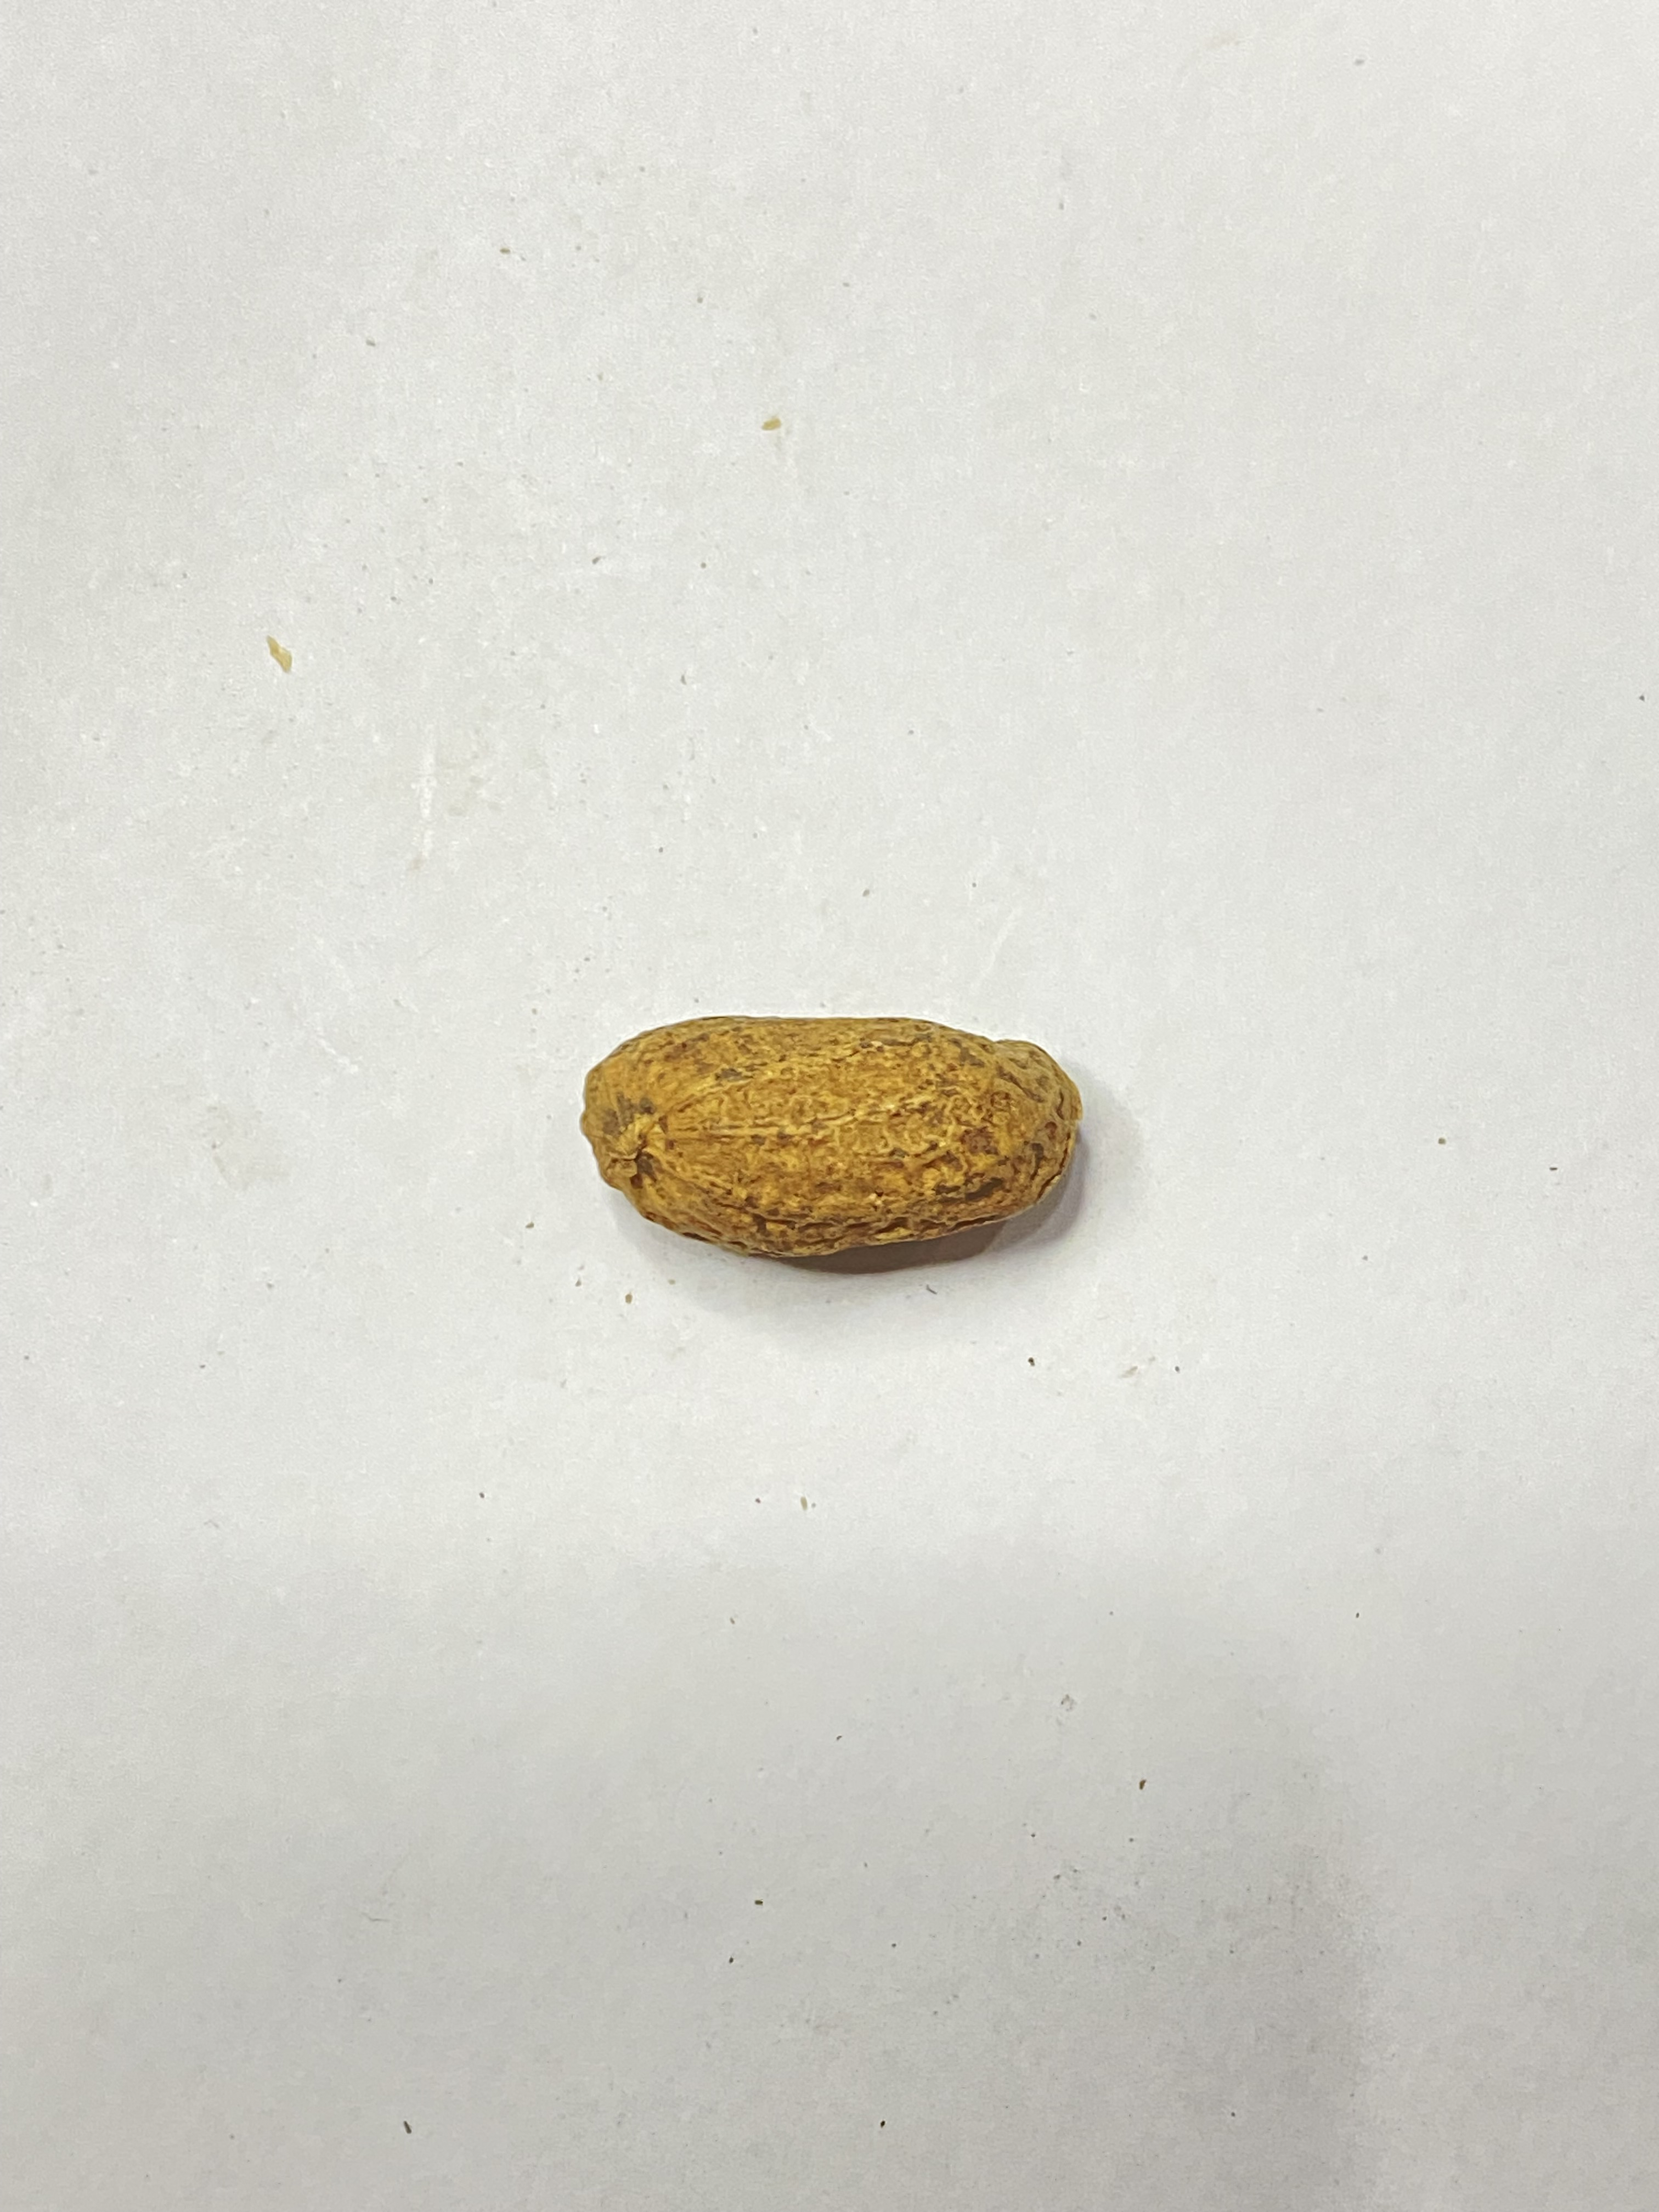kacang1: (460, 942, 1225, 1329)
